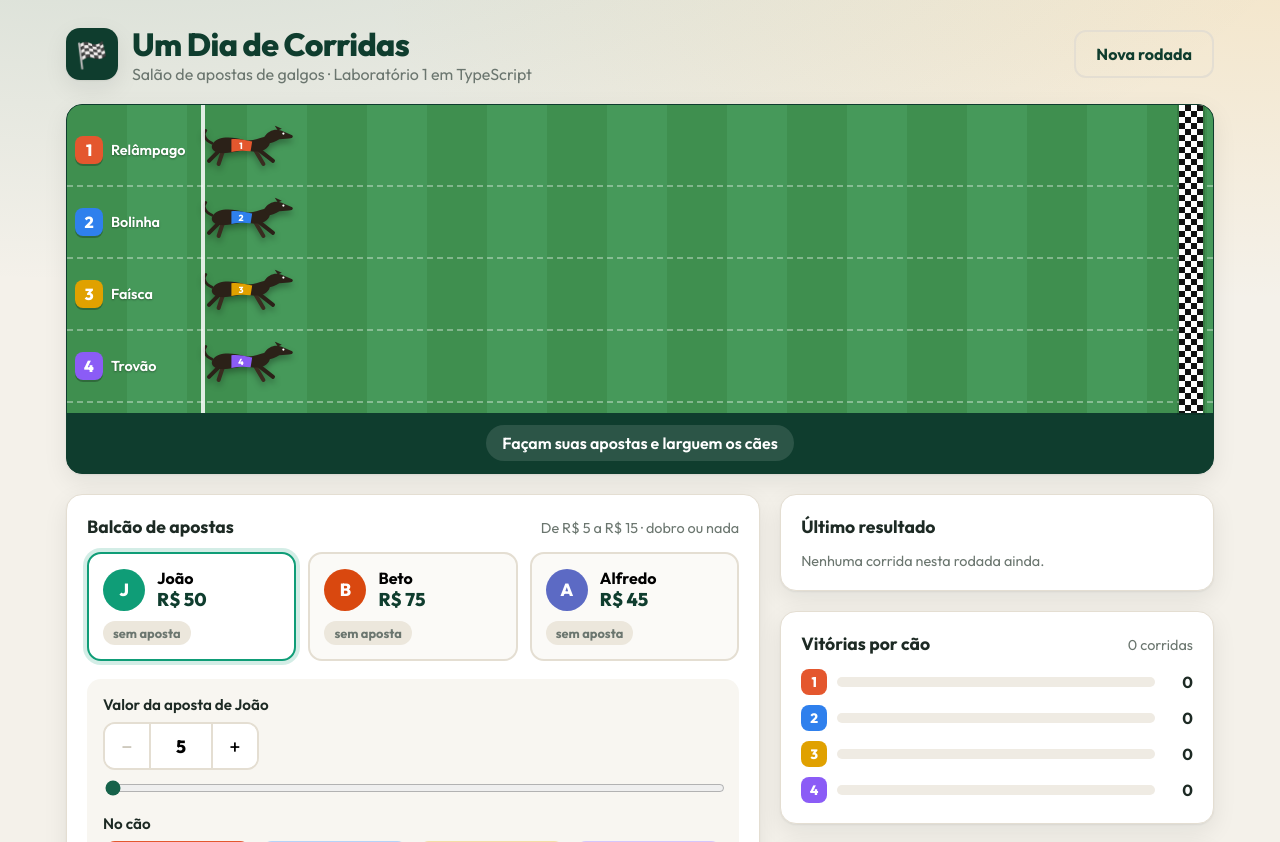
Scenario: balcão de apostas › escolhe o apostador e mostra o nome dele no campo de valor
Expected: the radio button labelled "J João R$ 50 sem aposta" is checked, top-left (87, 552), bottom-right (296, 661)
Click the radio button labelled "B Beto R$ 75 sem aposta".
click(413, 606)  # box top-left (308, 552), bottom-right (518, 661)
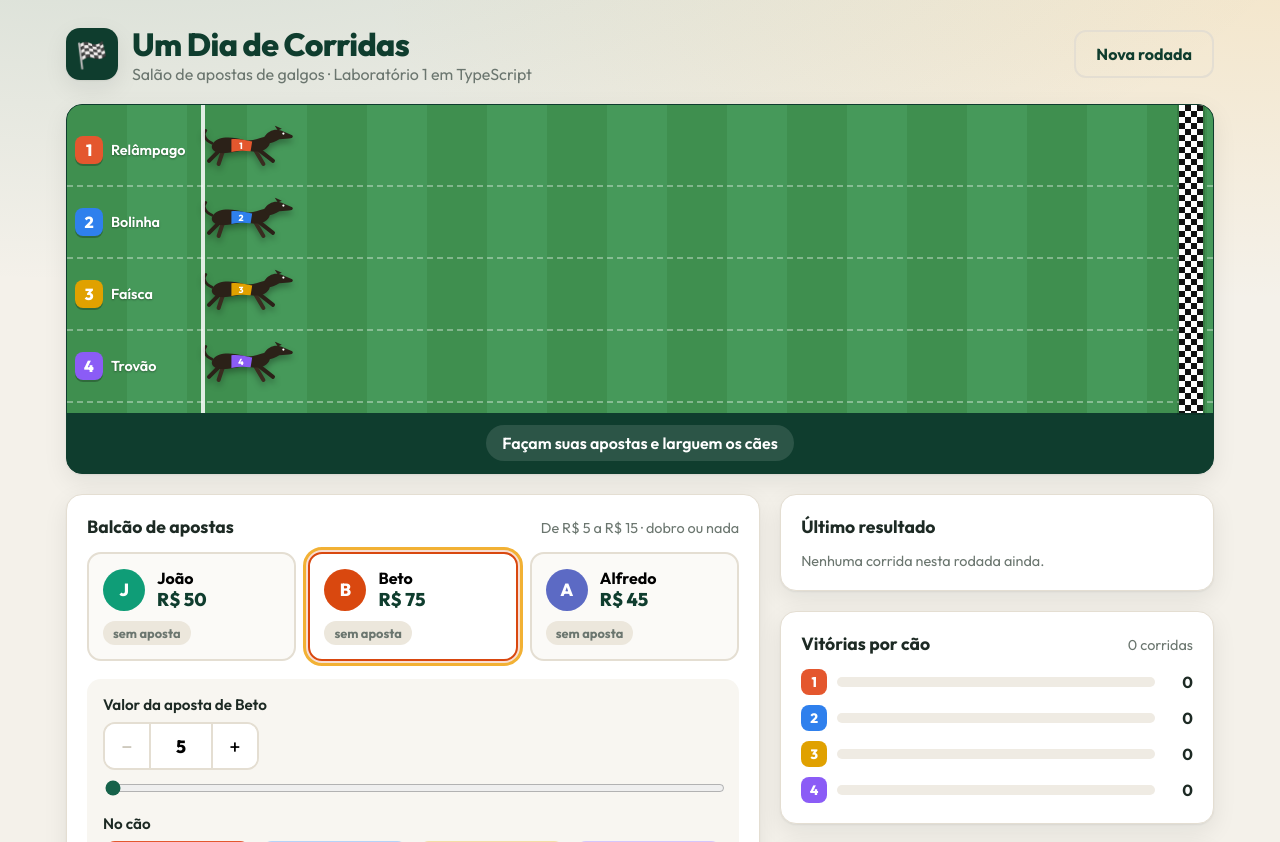
Expected: the number field labelled "Valor da aposta de Beto" is shown, top-left (149, 724), bottom-right (213, 768)
Now the radio button labelled "B Beto R$ 75 sem aposta" is checked, box top-left (308, 552), bottom-right (518, 661)
